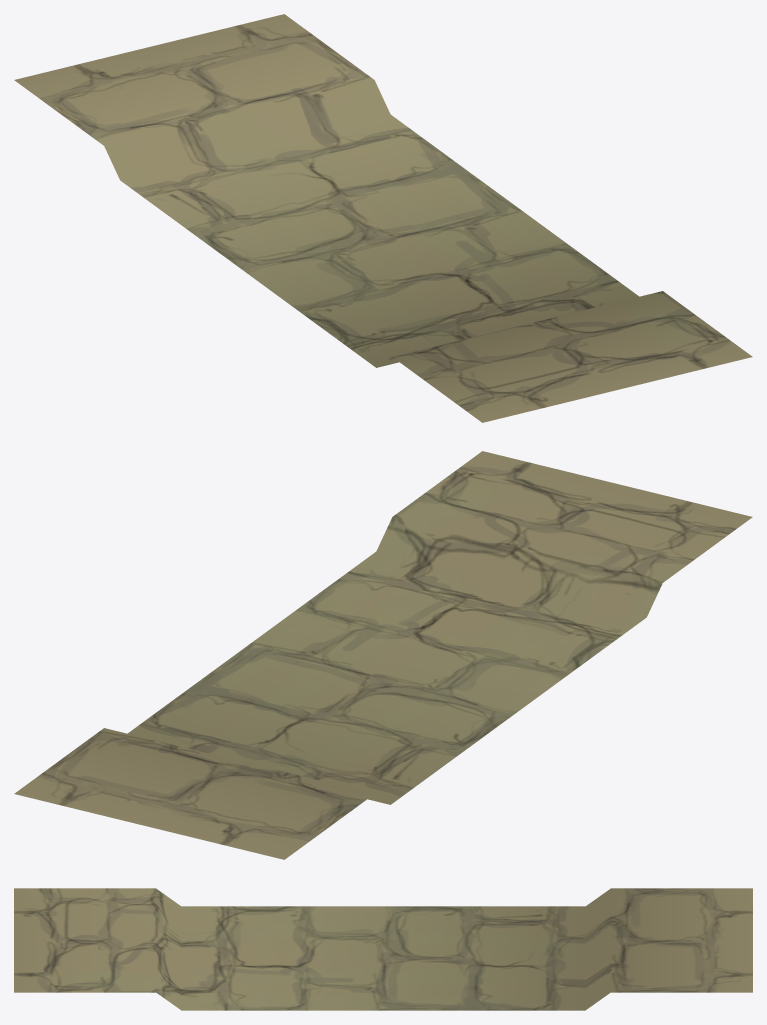
File: FloorCanalShort.fbx
3 views of the same model, one above another, from view 1: azimuth 30°, elevation 25°; view 2: azimuth 150°, elevation 25°; view 3: azimuth 270°, elevation 25° (orthographic). The views are drawn at different scales.
Parts seen in each view (by area): view 1: FloorCanalShort; view 2: FloorCanalShort; view 3: FloorCanalShort.
Part boxes in pixels (left/top/right/bottom): FloorCanalShort: left=14, top=14, right=752, bottom=422; FloorCanalShort: left=14, top=451, right=752, bottom=859; FloorCanalShort: left=14, top=888, right=752, bottom=1010.
Bounding box in the file's own units: 100 × 8.03 × 300.
